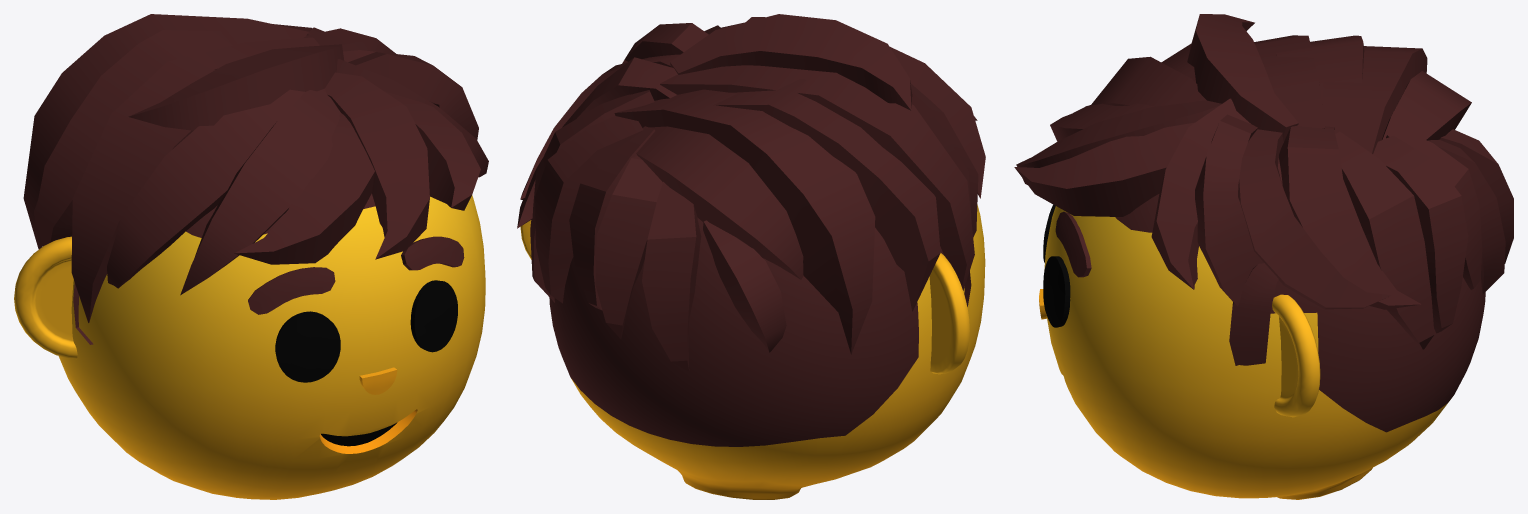
The model's file is boy.glb.
3 renders of one model, left to right at view 1: azimuth 30°, elevation 25°; view 2: azimuth 150°, elevation 25°; view 3: azimuth 270°, elevation 25°, orthographic. The views are drawn at different scales.
Visible parts, largest first — view 1: Cube.155, Roundcube.004, Circle.296, ears, Circle.299, Circle.297; view 2: Cube.155, Roundcube.004, ears; view 3: Cube.155, Roundcube.004, ears, Circle.296, Circle.299.
Part boxes in pixels (x1,y1,x2,y2): Cube.155: (23, 14, 488, 344); Roundcube.004: (58, 193, 485, 499); Circle.296: (275, 280, 457, 382); ears: (14, 236, 77, 359); Circle.299: (248, 236, 464, 314); Circle.297: (359, 367, 397, 394); Cube.155: (517, 14, 985, 371); Roundcube.004: (549, 204, 985, 499); ears: (520, 220, 969, 374); Cube.155: (1014, 14, 1513, 365); Roundcube.004: (1044, 158, 1485, 499); ears: (1272, 294, 1320, 417); Circle.296: (1043, 204, 1070, 327); Circle.299: (1055, 211, 1091, 277).
Bounding box in the file's own units: 1.76 × 1.65 × 1.71.
Materials: 2 (2 with a texture image).
